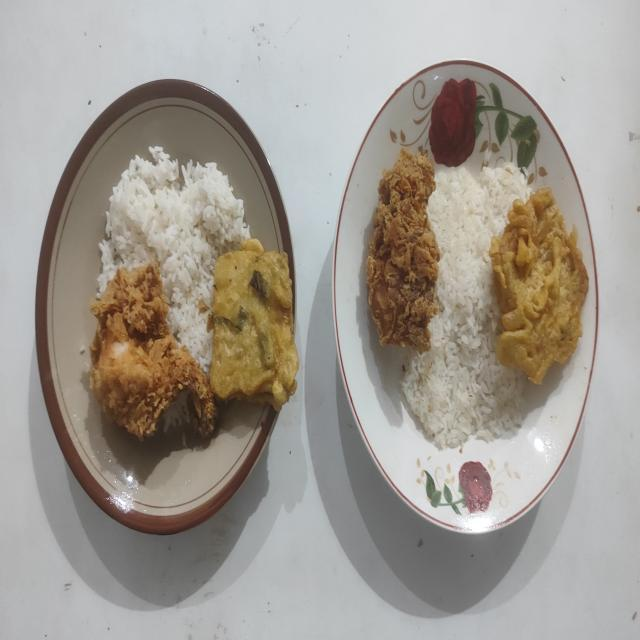nasi_putih: (402, 163, 530, 450), (98, 146, 250, 373)
